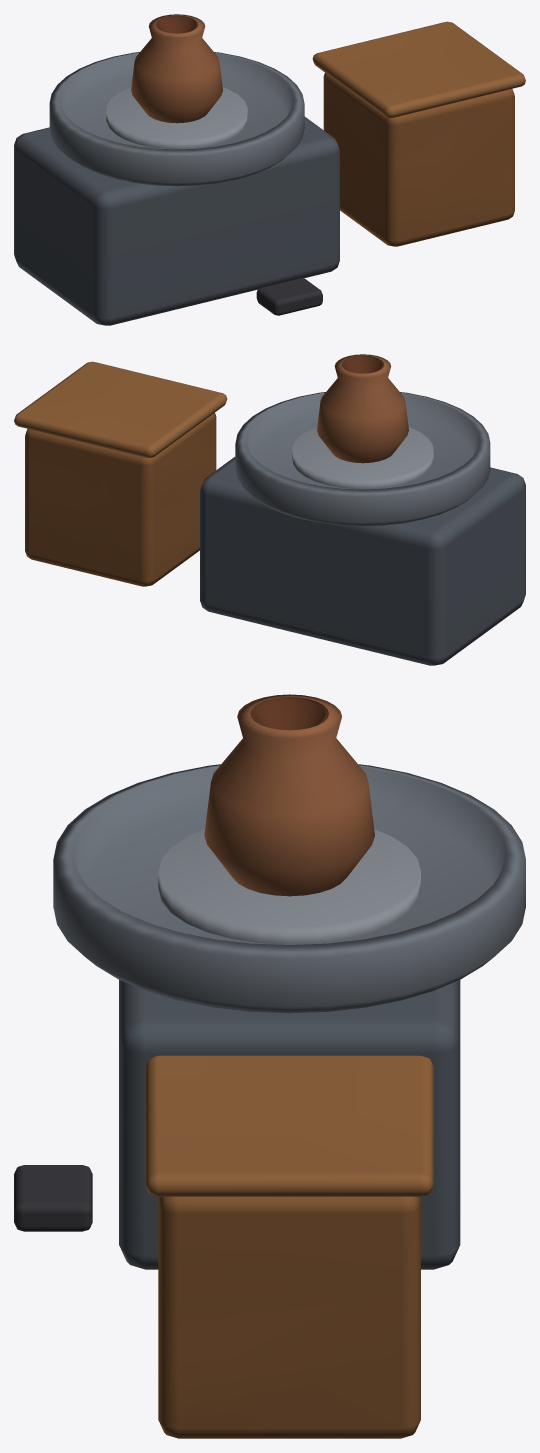
File: furn_potters_wheel.glb
3 views of the same model, one above another, from view 1: azimuth 30°, elevation 25°; view 2: azimuth 150°, elevation 25°; view 3: azimuth 270°, elevation 25° (orthographic). The views are drawn at different scales.
Parts seen in each view (by area): view 1: furn_potters_wheel_main; view 2: furn_potters_wheel_main; view 3: furn_potters_wheel_main.
Boxes of the visible parts, x1,y1,x2,y2 form: furn_potters_wheel_main: (14,14,525,325); furn_potters_wheel_main: (14,354,525,665); furn_potters_wheel_main: (14,694,525,1438).
Bounding box in the file's own units: 1.42 × 0.765 × 0.78.
